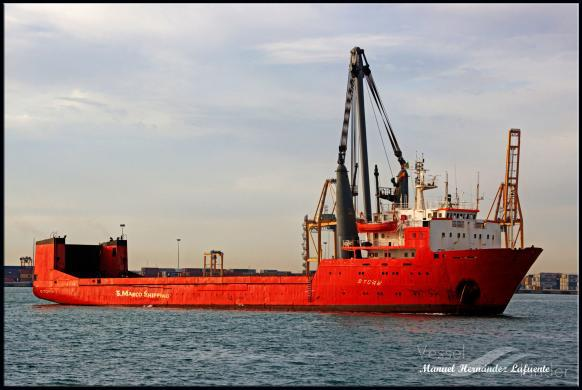OCR: (110, 284, 172, 298), (355, 275, 386, 286)
